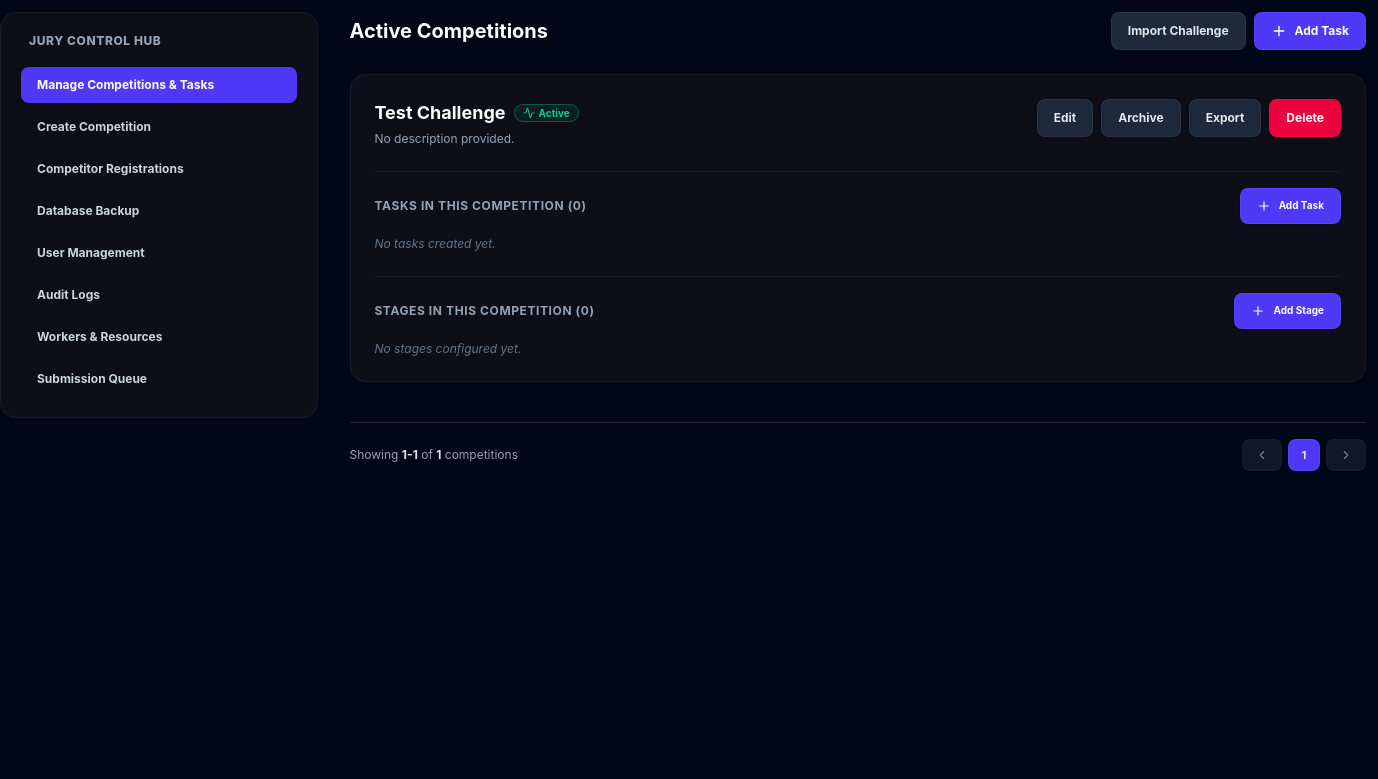
Test: AdminPanel – tab navigation & sub-module rendering › switches to User Management tab and renders UserManager
This screenshot has width=1378, height=779.
Click the button "User Management": click(91, 252) [21,235,296,271]
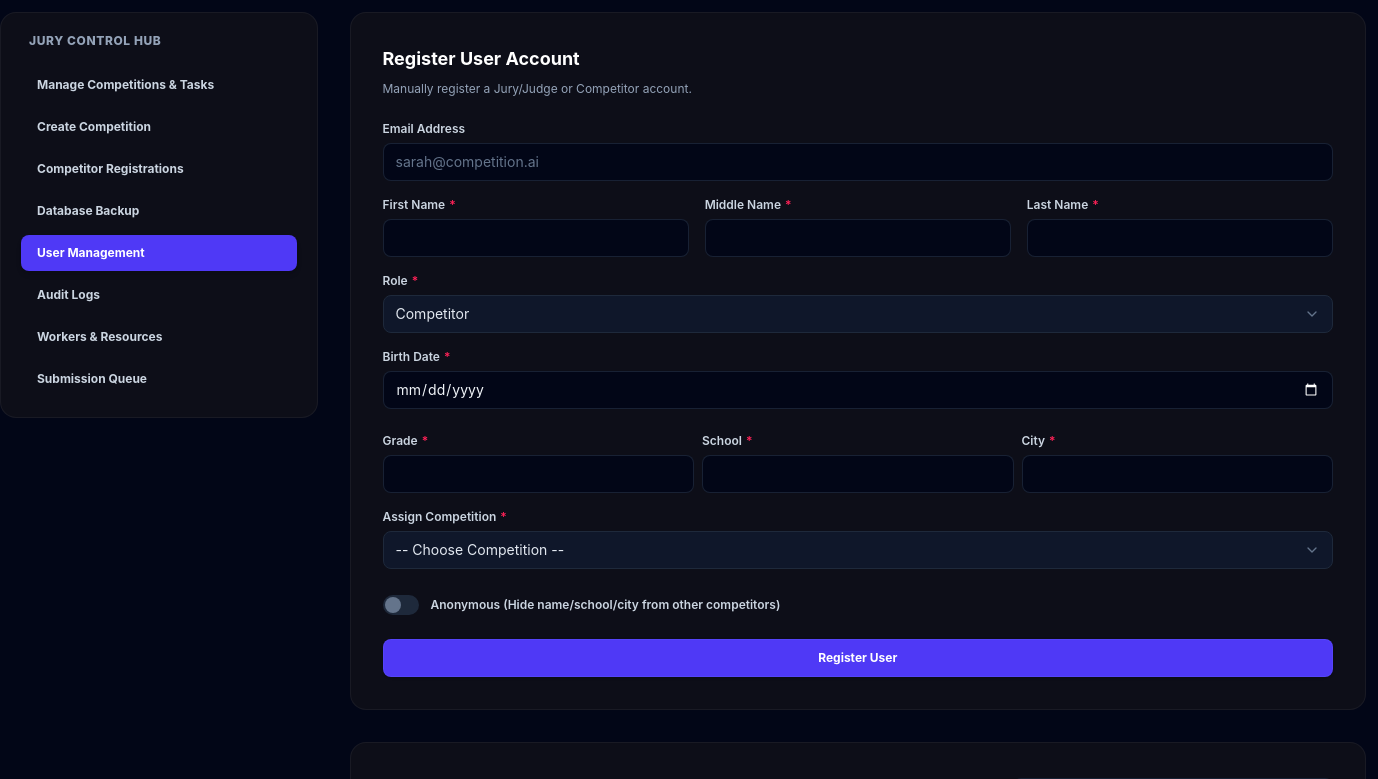
Expected: the heading "Register User Account" is shown, [382,48,580,69]
